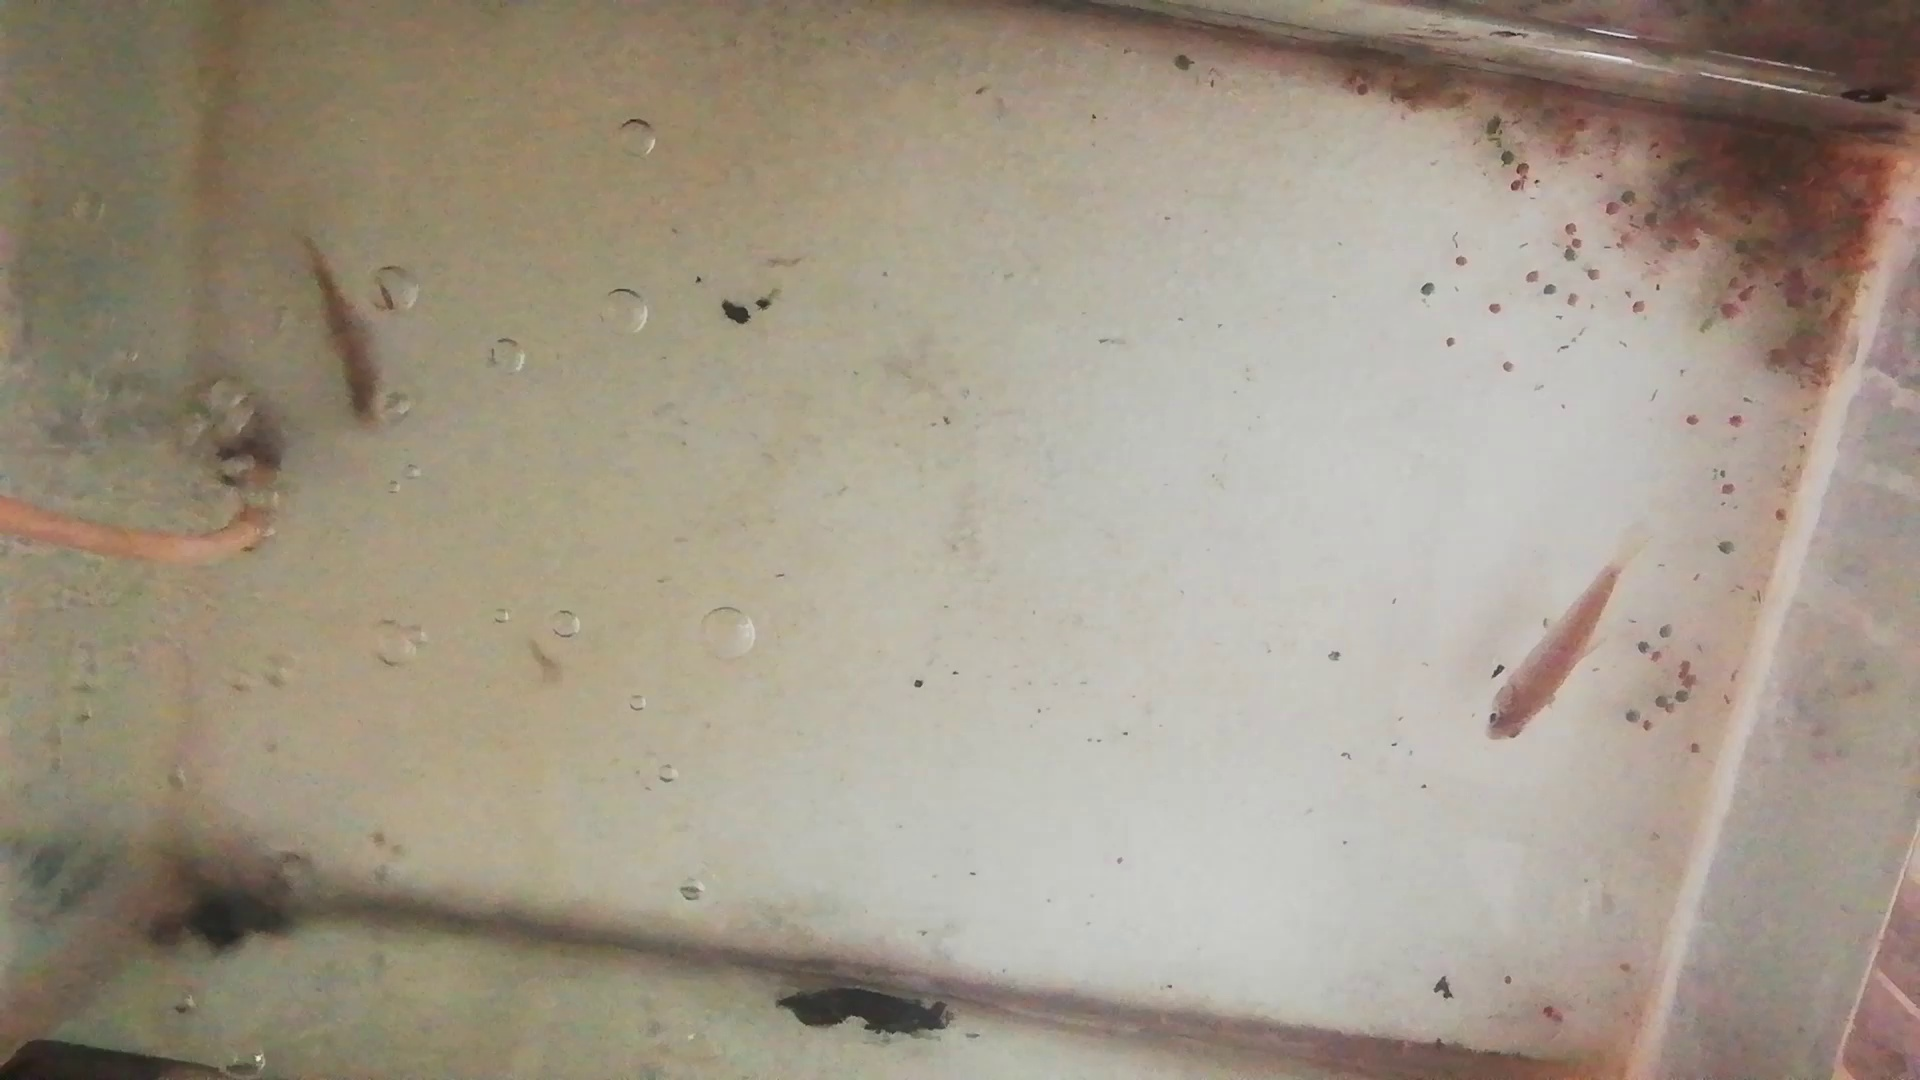fish: (1480, 566, 1619, 746), (295, 233, 386, 430)
